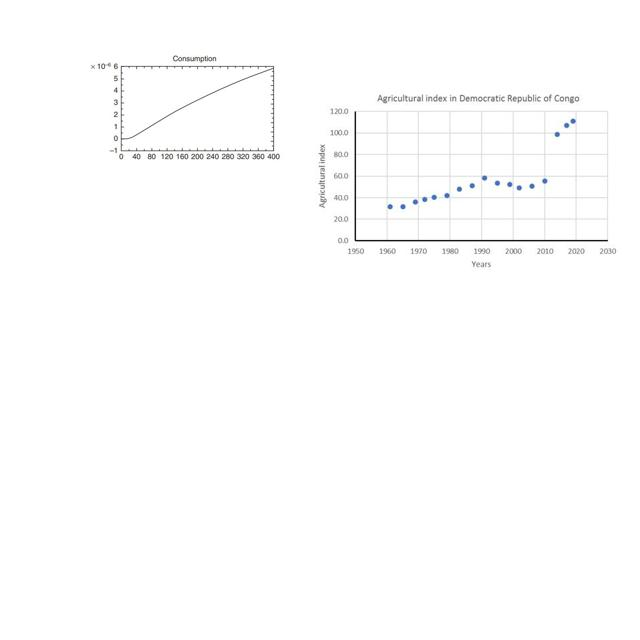Graph: (310, 84, 622, 270), (84, 49, 291, 172)
